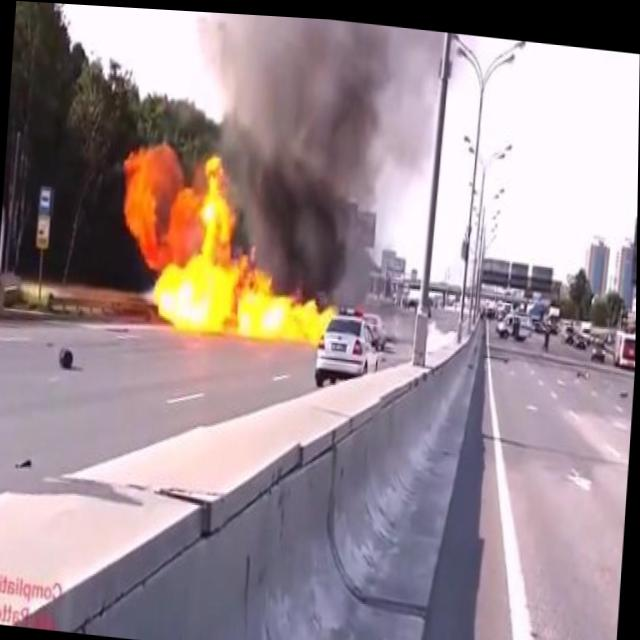fire: (113, 134, 344, 343)
